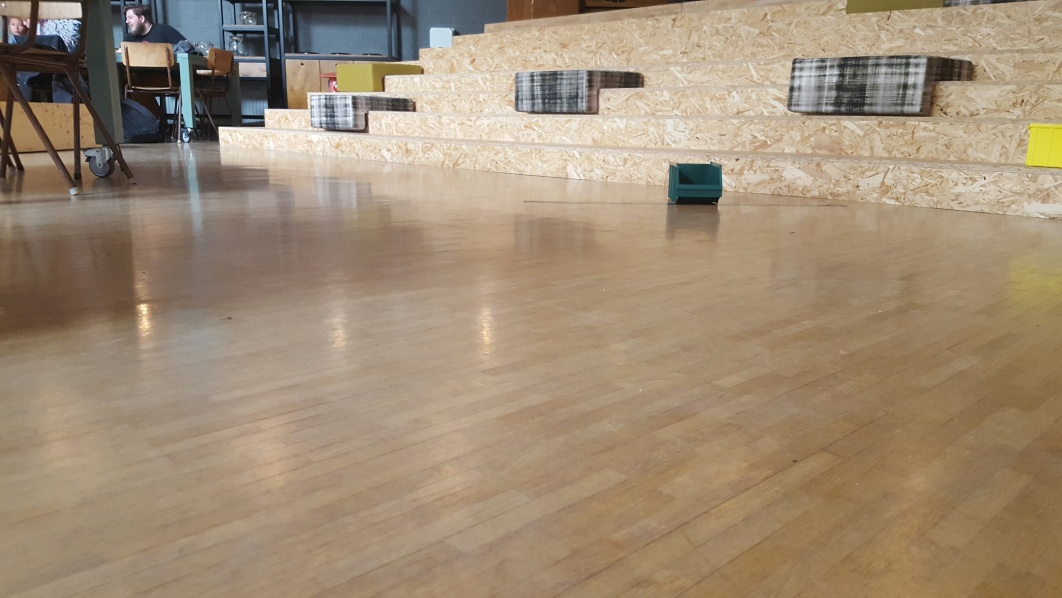tray: (662, 160, 725, 204)
